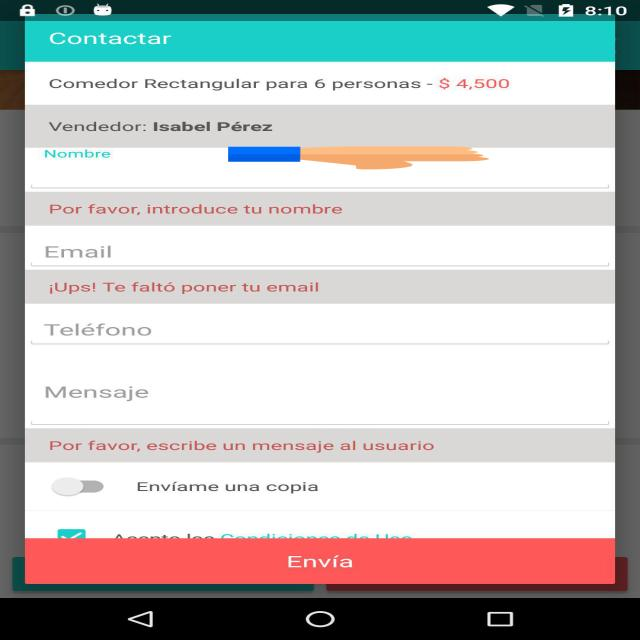obstruction: (228, 146, 489, 170)
